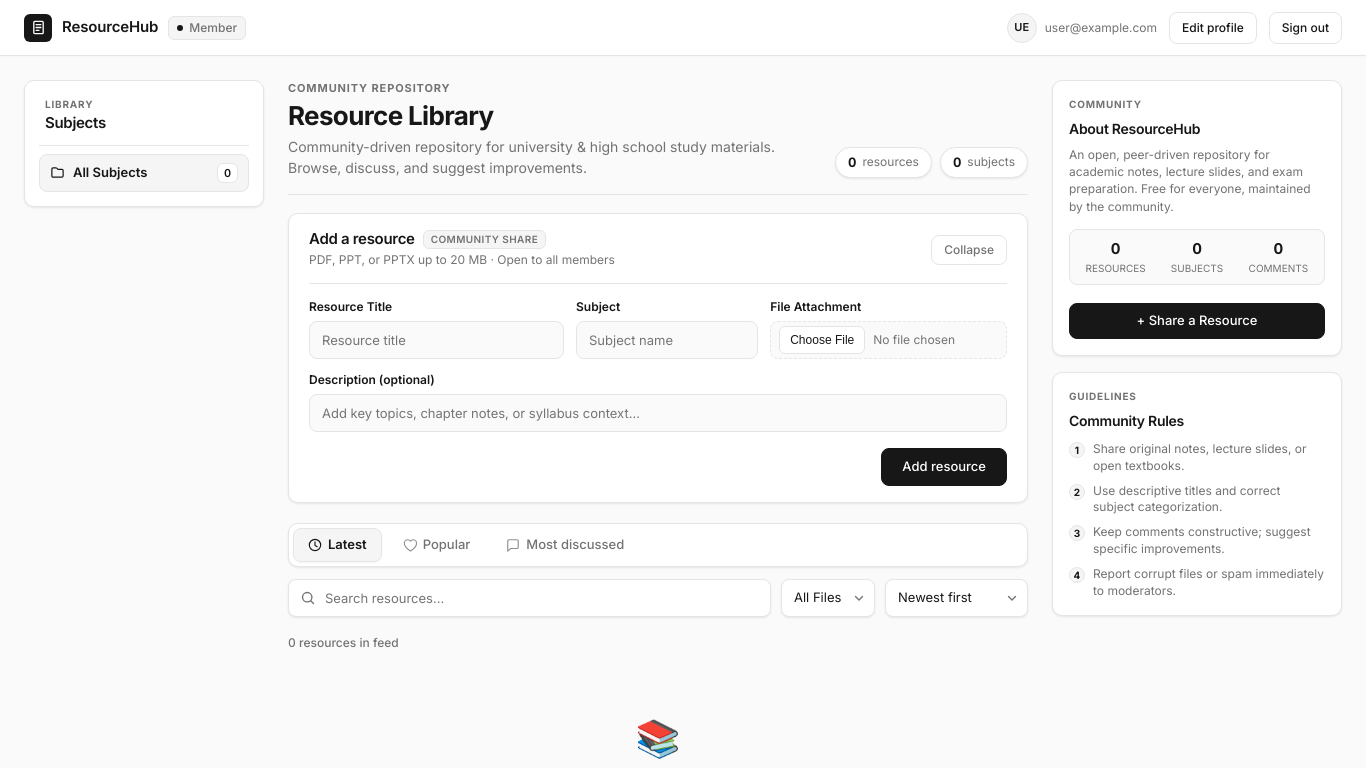
Test: ResourceHub Universal Community Platform UI & Access Control › upload form can be collapsed and expanded
Check: the heading "Add a resource" is shown, box left=309, top=230, right=415, bottom=249
Click the button "Collapse".
click(969, 250)  # box left=931, top=234, right=1007, bottom=264
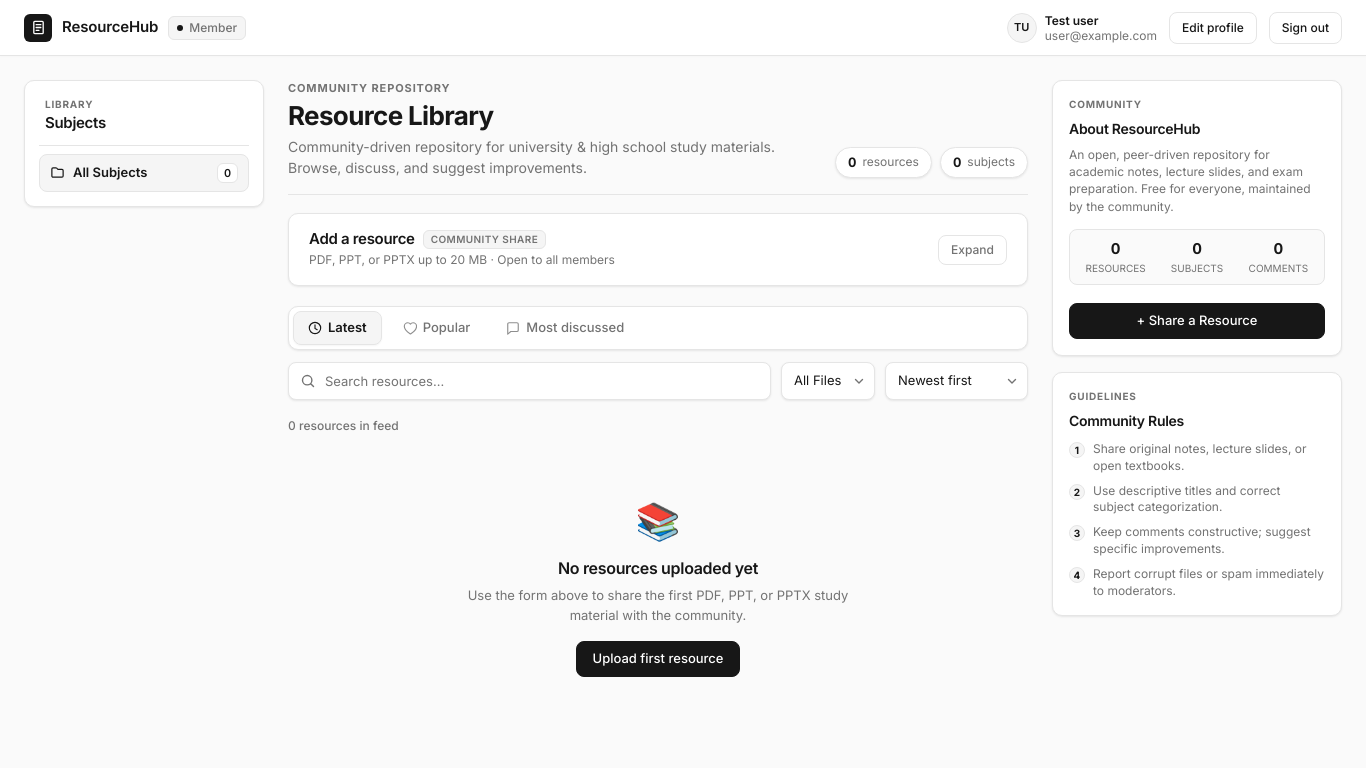
Check: the label with placeholder "Resource Title" is gone
Click the button "Expand".
click(973, 250)  # box left=938, top=234, right=1007, bottom=264
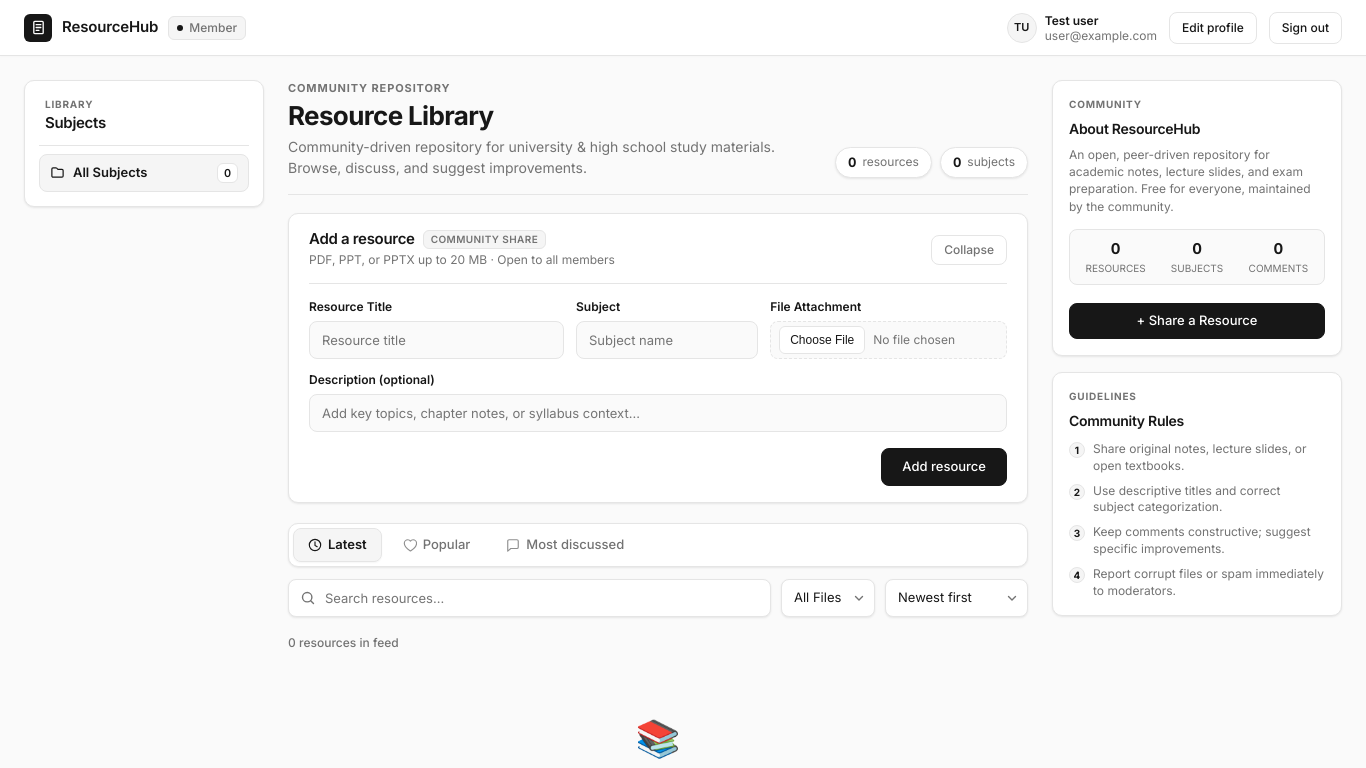
Check: the field with placeholder "Resource Title" is shown, box left=309, top=321, right=564, bottom=359
